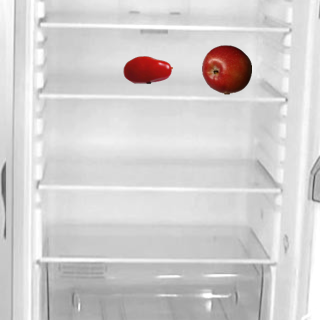Apple Braeburn: (201, 44, 251, 94)
Tomato 2: (122, 44, 172, 94)
